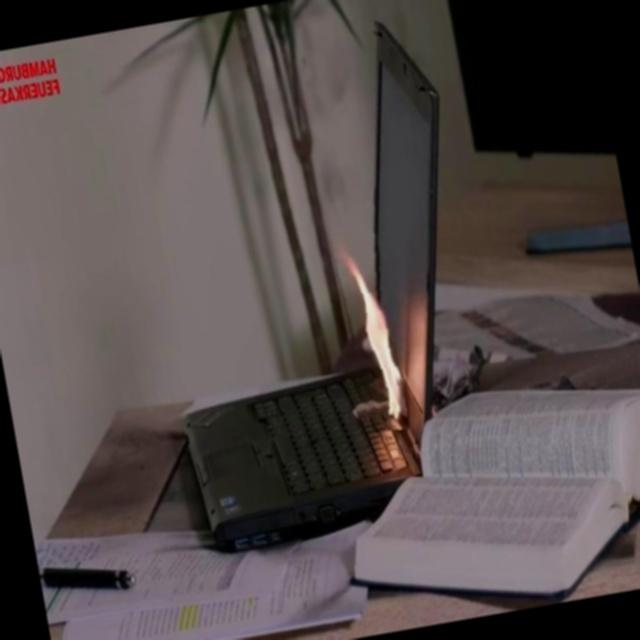fire: (324, 241, 420, 439)
